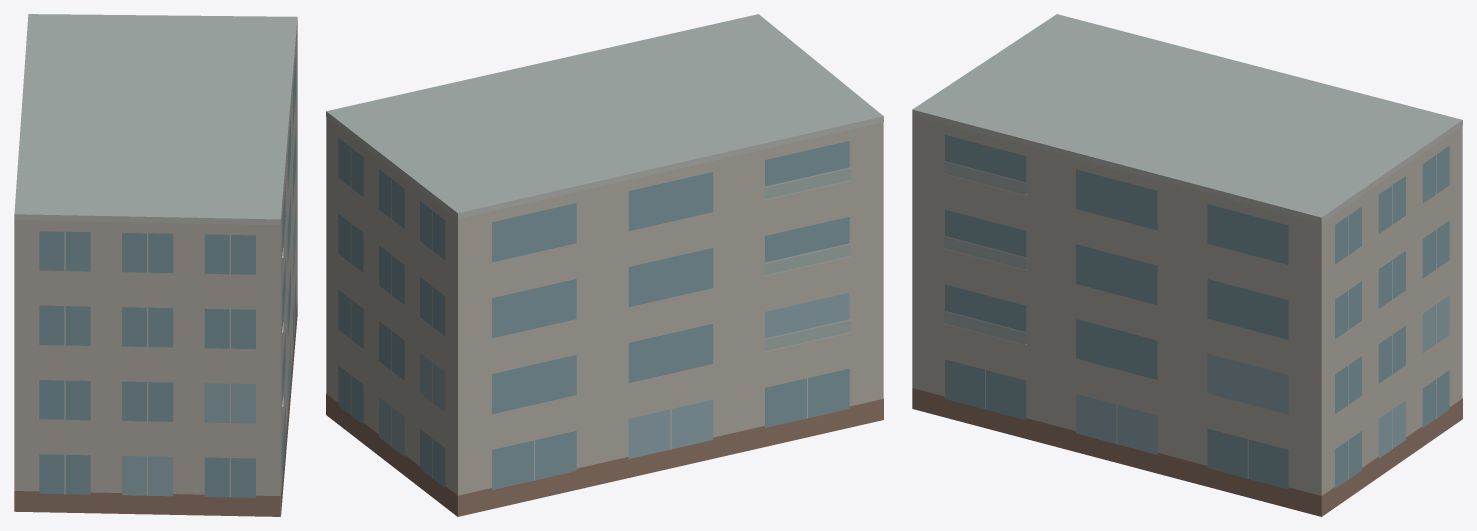
Rendered from survey-upis-32692668.glb.
The picture shows the model from 3 angles, left to right: view 1: azimuth 30°, elevation 25°; view 2: azimuth 150°, elevation 25°; view 3: azimuth 270°, elevation 25°; orthographic projection. The views are drawn at different scales.
Parts seen in each view (by area): view 1: survey-upis-32692668.tmp; view 2: survey-upis-32692668.tmp; view 3: survey-upis-32692668.tmp.
Boxes of the visible parts, x1,y1,x2,y2 form: survey-upis-32692668.tmp: [14, 14, 297, 516]; survey-upis-32692668.tmp: [326, 14, 883, 516]; survey-upis-32692668.tmp: [912, 14, 1462, 516].
Bounding box in the file's own units: 18.39 × 12.6 × 21.01.
